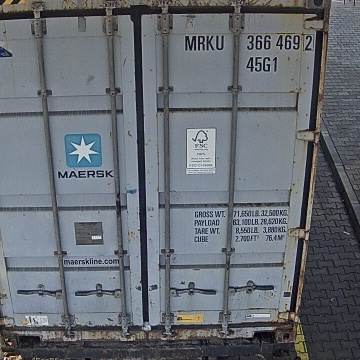serial_id: (184, 35, 312, 51)
